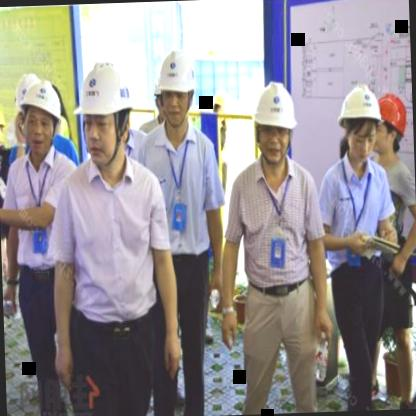helmet: (77, 62, 137, 164), (249, 81, 303, 176), (150, 40, 202, 135), (340, 80, 388, 166), (20, 72, 64, 160), (374, 86, 410, 161), (0, 101, 8, 156)
